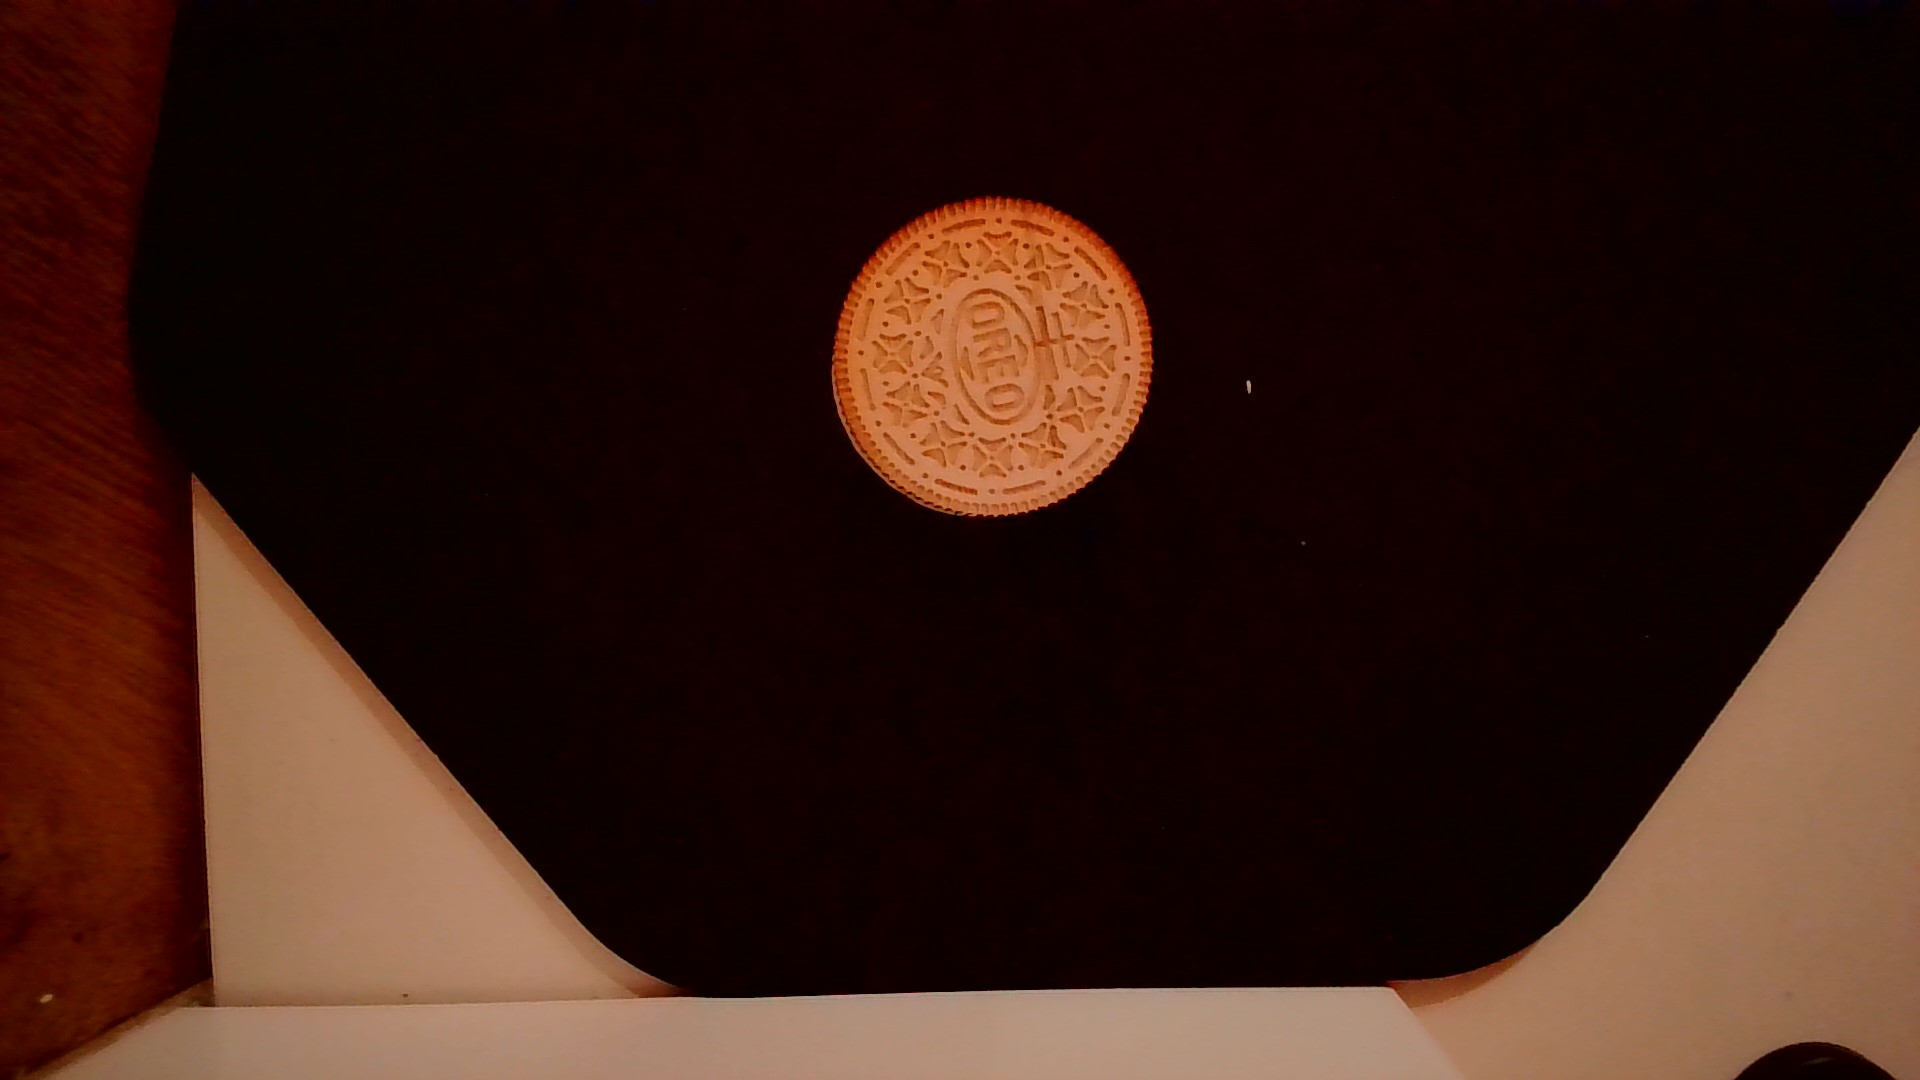Oréo: (814, 190, 1164, 530)
